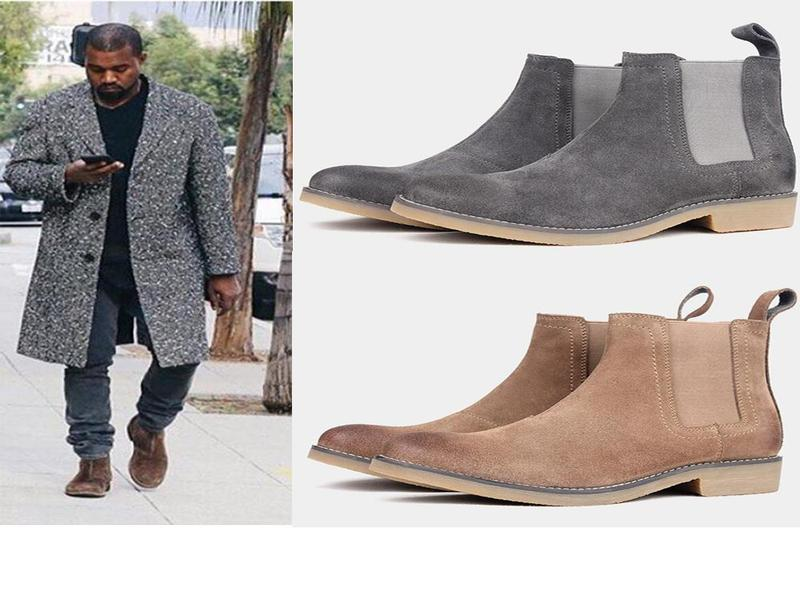shoes_men_chelsea_chelseaboots_suede_none_none_beige_none: (307, 278, 795, 514), (120, 409, 177, 495), (57, 449, 124, 504)
shoes_men_chelsea_chelseaboots_suede_none_none_grey_none: (301, 29, 799, 246)
